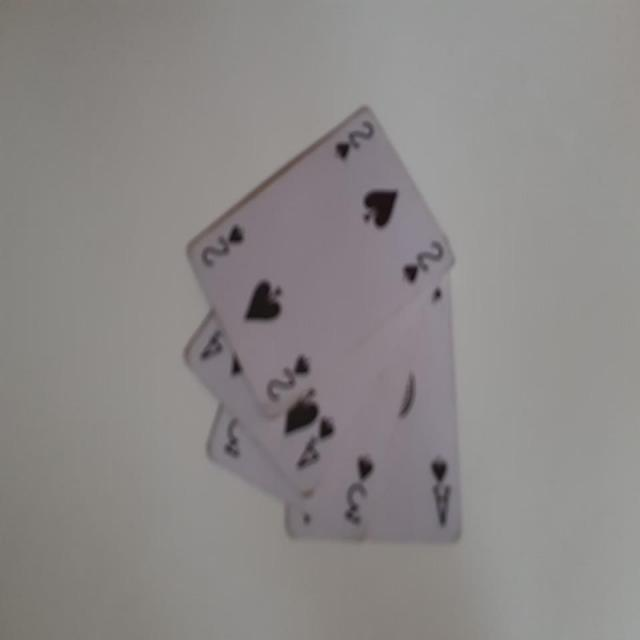2 Spades: (185, 230, 450, 532)
3 Spades: (228, 90, 444, 282)
4 Spades: (201, 143, 458, 355)
A Spades: (176, 94, 265, 382)
